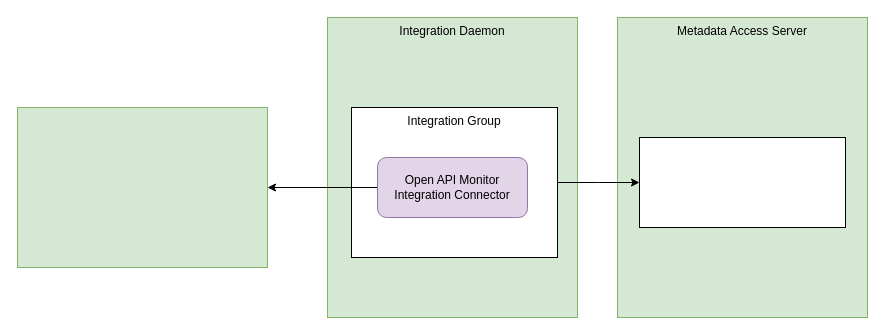
The diagram is 885 pixels wide and 335 high, and some of its shapes have lost their labels. Each missing label, with the centre of its shape:
"API Runtime" belongs at pixel 142 187.
"Open Metadata Framework Service" belongs at pixel 742 182.
